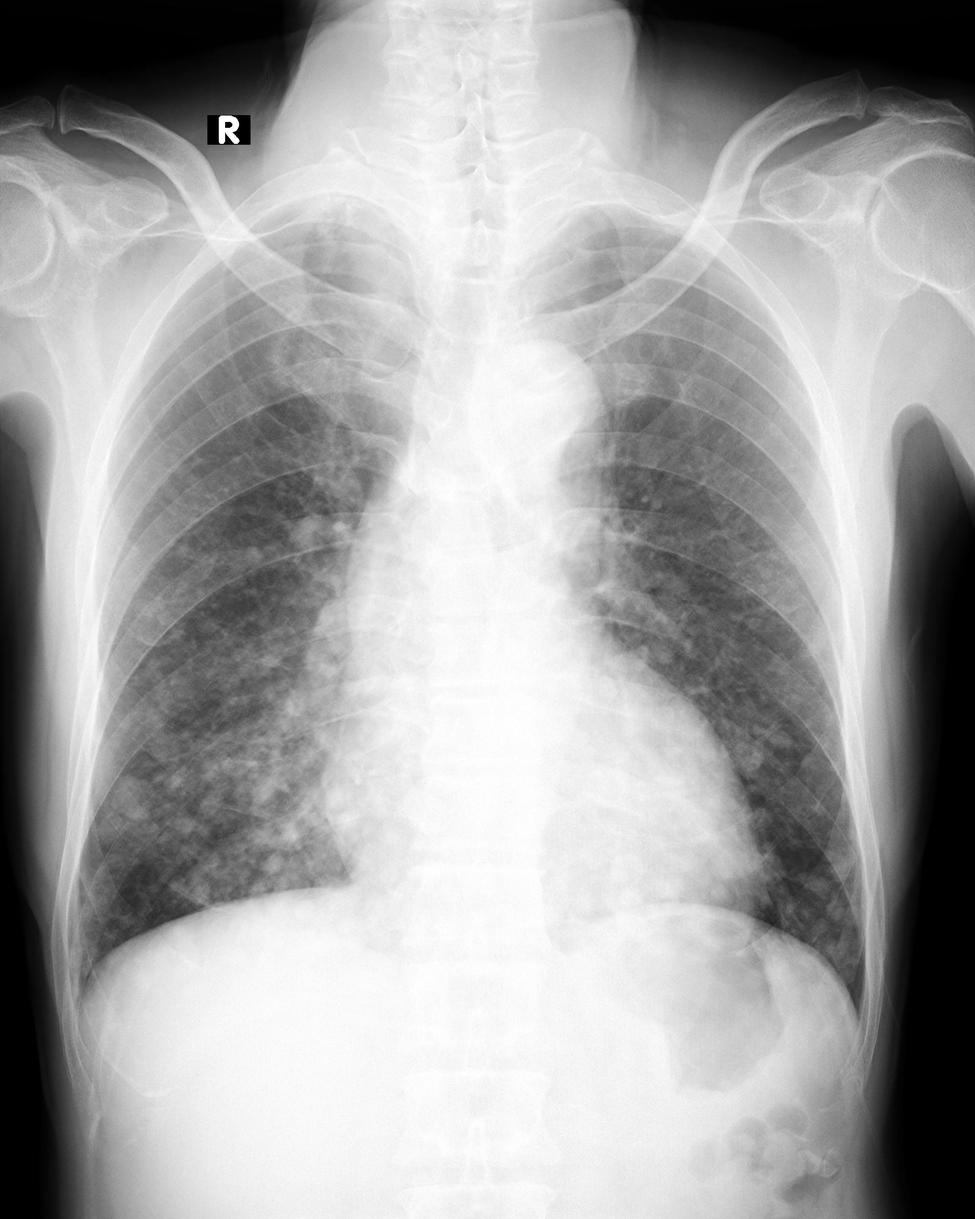Aortic enlargement: (471, 331, 600, 477)
Cardiomegaly: (319, 776, 779, 923)
Pulmonary fibrosis: (81, 587, 350, 976), (657, 647, 863, 993)
